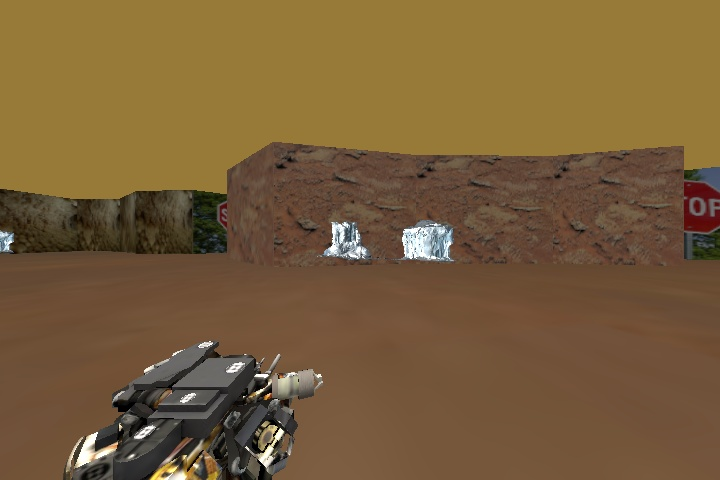minerals: (401, 220, 454, 261), (323, 219, 369, 261), (0, 232, 14, 255)
sign: (682, 181, 720, 235)
